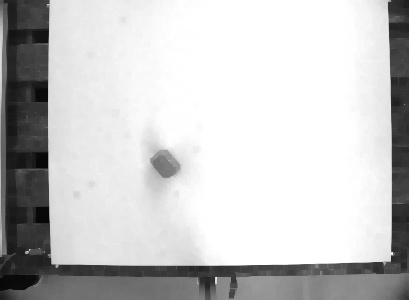b1: (148, 148, 183, 181)
